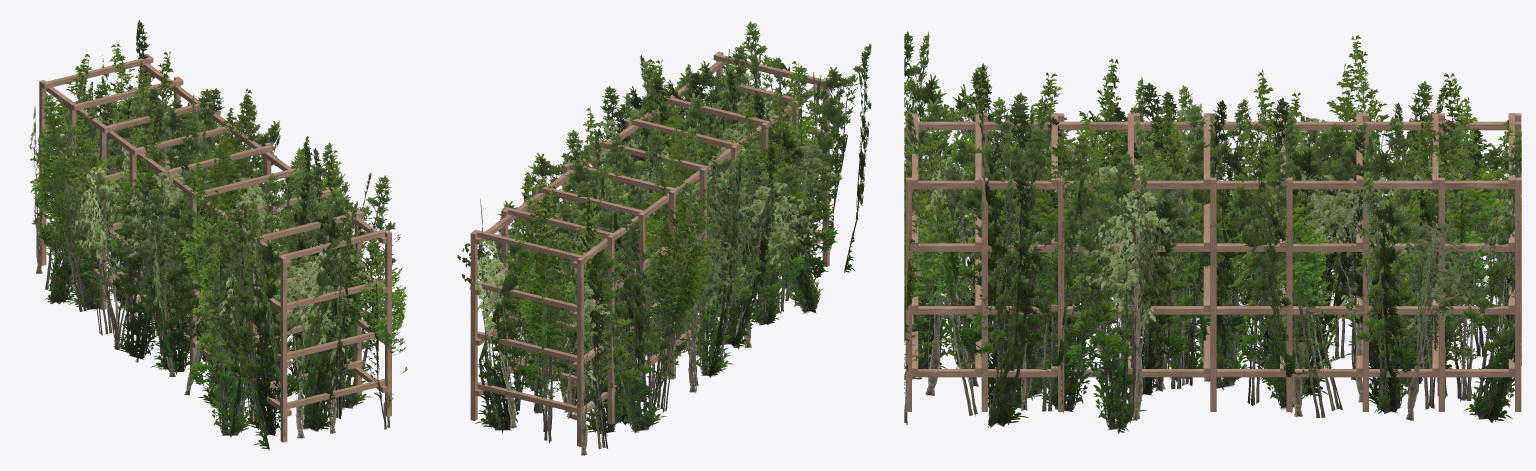
The model's file is SM_Hedgerows.fbx.
The picture shows the model from 3 angles, left to right: view 1: azimuth 30°, elevation 25°; view 2: azimuth 150°, elevation 25°; view 3: azimuth 270°, elevation 25°; orthographic projection. The views are drawn at different scales.
Visible parts, largest first — view 1: SM_Hedgerows; view 2: SM_Hedgerows; view 3: SM_Hedgerows.
Part boxes in pixels (box(x1,y1,x2,y2)): SM_Hedgerows: box(29, 20, 407, 450); SM_Hedgerows: box(457, 21, 871, 455); SM_Hedgerows: box(904, 31, 1521, 434).
Bounding box in the file's own units: 234 × 387 × 231.
1 material, 1 textured.
